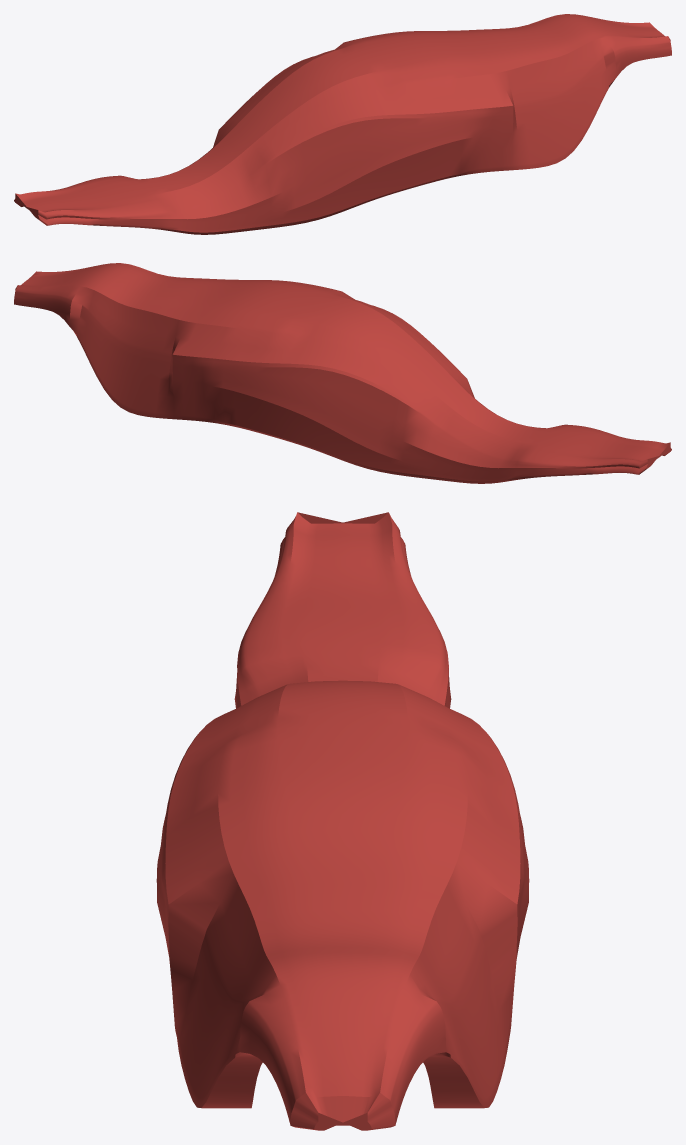
Rendered from adventure_5_lod1.glb.
3 views of the same model, one above another, from view 1: azimuth 30°, elevation 25°; view 2: azimuth 150°, elevation 25°; view 3: azimuth 270°, elevation 25° (orthographic). The views are drawn at different scales.
Parts seen in each view (by area): view 1: adventure_5_lod1; view 2: adventure_5_lod1; view 3: adventure_5_lod1.
Boxes of the visible parts, bbox=[...] form: adventure_5_lod1: bbox=[14, 14, 671, 234]; adventure_5_lod1: bbox=[14, 263, 671, 483]; adventure_5_lod1: bbox=[156, 512, 529, 1130].
Size of the model in its own units: 1.57 by 0.2869 by 0.3977.
